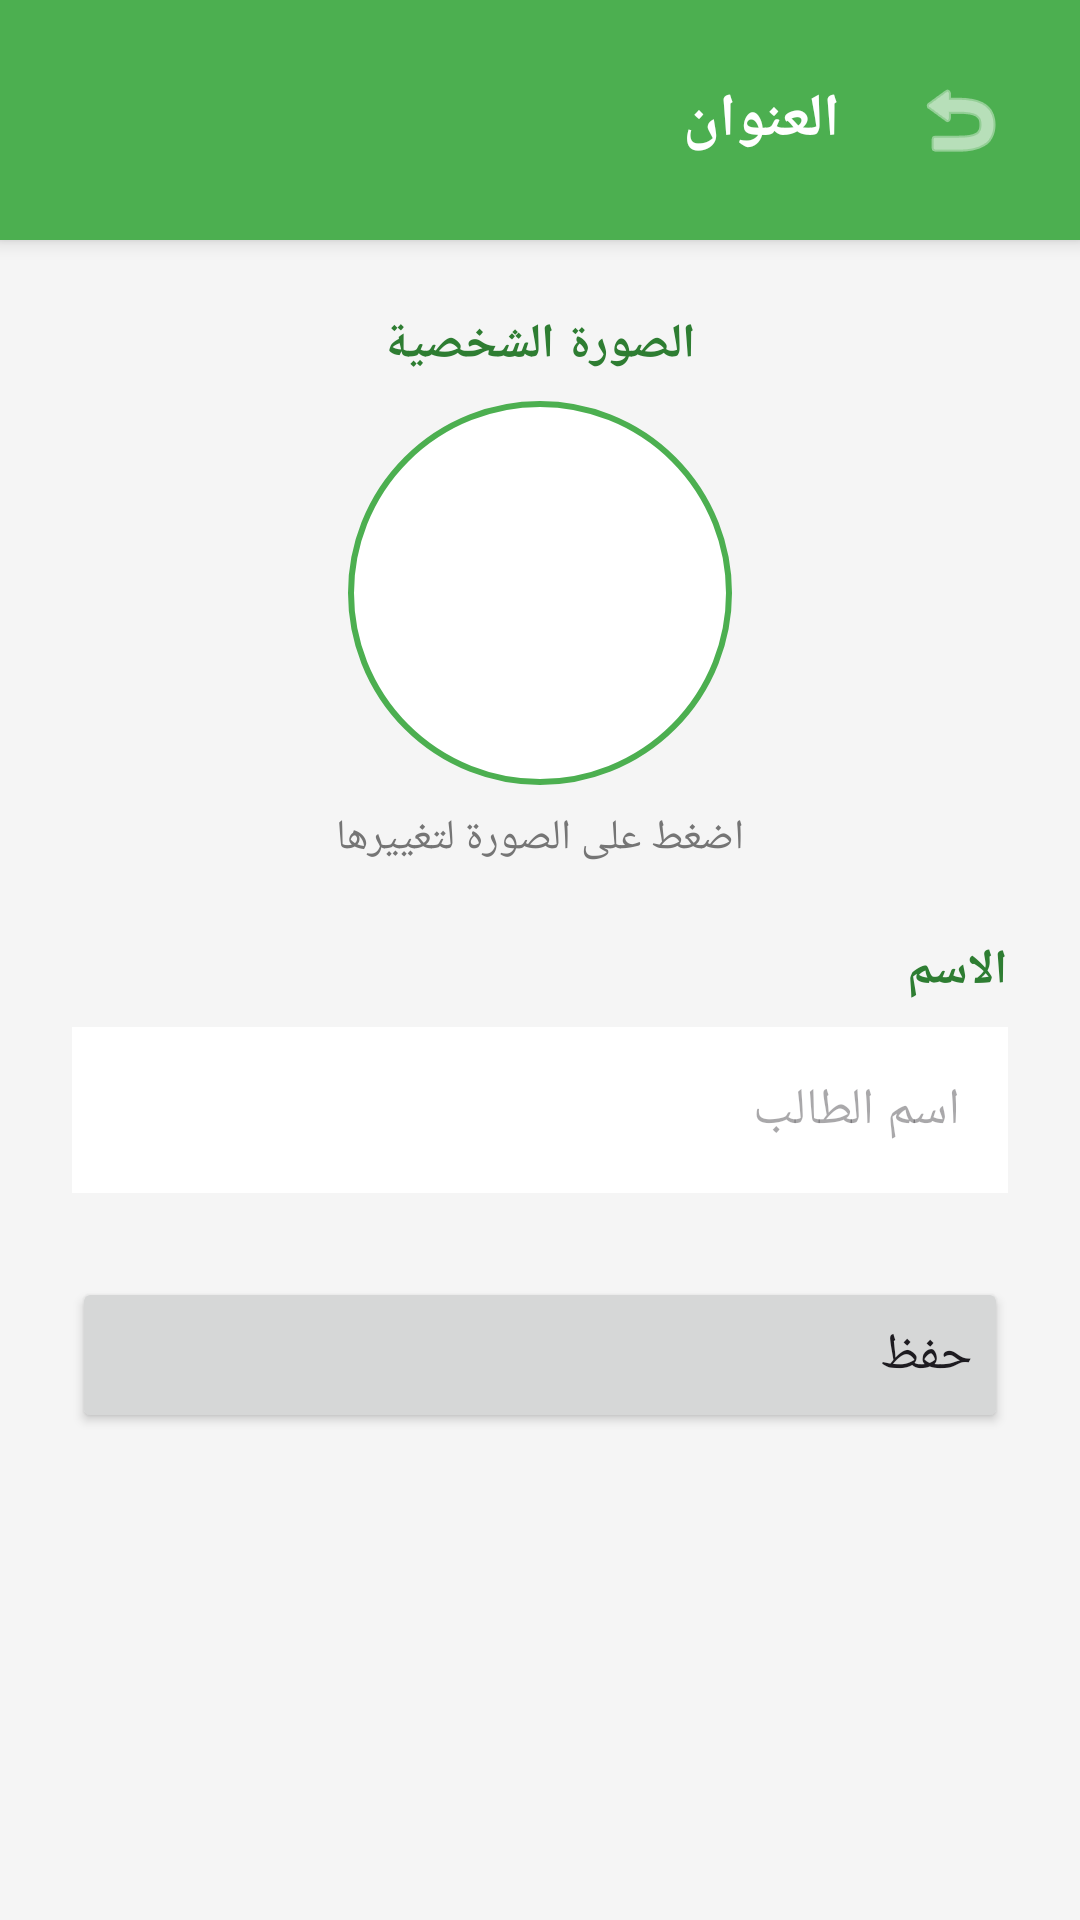

Locate icon controls on the screen. Image size 1080 x 1920, boxes as bbox(x1, y1, x2, y2).
رجوع: bbox(927, 89, 996, 152)
